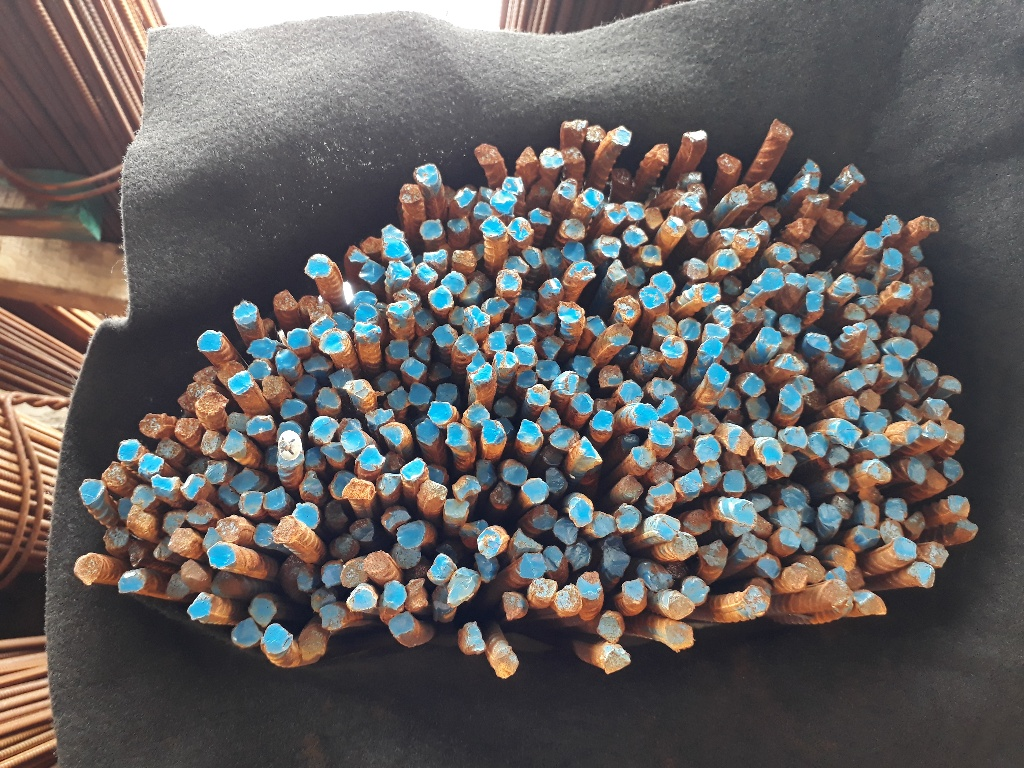dipstick: (448, 566, 481, 605), (167, 526, 203, 559), (570, 436, 603, 469), (553, 584, 585, 616), (261, 625, 294, 656), (73, 552, 103, 585), (194, 390, 229, 416), (229, 619, 262, 646), (126, 504, 155, 534), (727, 425, 755, 456), (272, 515, 300, 546), (527, 503, 559, 530), (355, 444, 387, 471), (427, 556, 457, 584), (180, 560, 208, 590), (474, 551, 500, 583), (600, 648, 633, 673), (564, 540, 592, 569), (500, 591, 528, 620), (309, 417, 339, 444), (488, 481, 514, 512), (347, 585, 378, 611), (321, 443, 352, 469), (212, 570, 239, 599), (98, 459, 127, 486), (461, 622, 484, 656), (586, 510, 616, 536), (505, 215, 535, 241), (493, 648, 519, 678), (392, 543, 422, 569), (512, 529, 543, 554), (396, 522, 427, 547), (833, 420, 860, 448), (700, 539, 728, 566), (522, 476, 550, 503), (461, 520, 488, 548), (340, 479, 376, 500), (249, 599, 277, 626), (293, 503, 320, 531), (694, 436, 723, 462), (415, 418, 441, 447), (341, 560, 370, 586), (746, 586, 770, 617), (576, 571, 603, 598), (475, 141, 502, 168), (529, 579, 556, 606), (329, 470, 356, 497), (137, 413, 164, 440), (678, 470, 704, 498), (666, 624, 694, 650), (299, 631, 327, 657), (185, 499, 213, 525), (857, 589, 886, 614), (644, 566, 673, 591), (604, 551, 629, 580), (296, 561, 318, 593), (740, 531, 767, 557), (685, 509, 712, 535), (682, 578, 709, 604), (615, 505, 642, 531), (319, 603, 345, 630), (615, 295, 640, 323), (518, 551, 546, 576), (299, 475, 324, 503), (208, 545, 236, 570), (554, 516, 578, 545), (452, 476, 481, 500), (231, 470, 260, 494), (490, 191, 521, 213), (397, 458, 428, 480), (598, 363, 624, 389), (320, 330, 346, 356), (238, 491, 264, 517), (103, 524, 129, 550), (855, 500, 880, 527), (656, 515, 681, 542), (478, 527, 503, 554), (383, 505, 410, 530), (406, 581, 427, 613), (217, 516, 241, 544), (880, 211, 905, 237), (673, 533, 698, 559), (597, 615, 622, 641), (443, 498, 469, 523), (349, 518, 375, 543), (325, 501, 350, 527), (166, 572, 192, 597), (853, 524, 880, 548), (539, 335, 566, 359), (551, 424, 578, 448), (188, 592, 212, 619), (569, 498, 592, 526), (545, 465, 568, 493), (382, 580, 405, 608), (420, 481, 448, 504), (357, 261, 385, 284), (277, 442, 305, 465), (247, 337, 275, 360), (217, 361, 245, 384), (114, 572, 146, 592), (152, 535, 173, 565), (652, 312, 677, 337), (651, 481, 676, 506), (427, 400, 452, 425), (221, 430, 246, 455), (830, 272, 854, 298), (482, 296, 506, 322), (444, 422, 470, 446), (784, 563, 807, 590), (388, 613, 415, 636), (364, 553, 391, 576), (77, 478, 104, 501), (150, 471, 181, 491), (887, 312, 915, 334), (496, 271, 524, 293), (924, 542, 949, 566), (802, 556, 826, 581), (778, 384, 802, 409), (759, 268, 784, 292), (758, 555, 782, 580), (655, 395, 680, 419), (572, 354, 597, 378), (316, 389, 341, 413), (819, 502, 842, 528), (807, 433, 830, 459), (784, 426, 810, 449), (640, 286, 666, 309), (648, 460, 674, 483), (427, 287, 453, 310), (196, 330, 222, 353), (181, 475, 207, 498), (669, 598, 696, 620), (291, 375, 318, 397), (227, 372, 254, 394), (246, 415, 273, 437), (432, 586, 453, 614), (770, 119, 794, 143), (885, 497, 909, 521), (833, 544, 857, 568), (742, 372, 766, 396), (745, 463, 769, 487), (734, 500, 758, 524), (649, 424, 673, 448), (538, 406, 562, 430), (452, 248, 476, 272), (419, 218, 443, 242), (260, 374, 284, 398), (909, 265, 934, 288), (910, 322, 933, 347), (947, 492, 970, 517), (880, 519, 903, 544), (722, 471, 747, 494), (716, 152, 741, 175), (620, 475, 643, 500), (913, 561, 935, 587), (857, 337, 879, 363), (783, 486, 809, 508), (746, 397, 772, 419), (716, 248, 742, 270), (479, 216, 505, 238), (414, 263, 440, 285), (163, 511, 189, 533), (399, 359, 426, 380), (340, 431, 367, 452), (843, 163, 867, 186), (868, 460, 892, 483), (867, 433, 891, 456), (828, 469, 852, 492), (750, 514, 773, 538), (661, 335, 685, 358), (640, 243, 663, 267), (482, 421, 506, 444), (455, 332, 479, 355), (199, 431, 222, 455), (131, 484, 155, 507), (622, 580, 647, 602), (559, 301, 584, 323), (518, 419, 540, 444), (407, 383, 432, 405), (431, 325, 456, 347), (386, 339, 411, 361), (311, 588, 336, 610), (273, 290, 298, 312), (892, 337, 918, 358), (638, 347, 664, 368), (607, 323, 633, 344), (534, 359, 560, 380), (452, 187, 478, 208), (281, 397, 307, 418), (650, 378, 677, 398), (376, 474, 403, 494), (115, 440, 142, 460), (916, 357, 939, 380), (719, 387, 742, 410), (619, 381, 642, 404), (264, 487, 287, 510), (206, 460, 229, 483), (859, 388, 881, 412), (832, 493, 854, 517), (825, 580, 847, 604), (730, 184, 754, 206), (678, 317, 700, 341), (580, 187, 604, 209), (517, 148, 539, 172), (538, 276, 562, 298), (465, 306, 489, 328), (466, 401, 490, 423), (414, 308, 438, 330), (217, 484, 241, 506), (174, 417, 198, 439), (893, 537, 918, 558), (827, 445, 852, 466), (543, 245, 564, 270), (505, 254, 530, 275), (555, 372, 580, 393), (543, 545, 564, 570), (379, 425, 404, 446), (375, 371, 400, 392), (329, 368, 354, 389), (254, 522, 275, 547), (155, 438, 180, 459), (702, 460, 720, 489), (924, 398, 950, 418), (693, 412, 719, 432), (622, 227, 648, 247), (564, 119, 590, 139), (523, 244, 543, 270), (426, 361, 452, 381), (567, 262, 594, 281), (943, 418, 965, 441), (842, 298, 864, 321), (843, 320, 866, 342), (781, 507, 803, 530), (776, 453, 798, 476), (513, 344, 536, 366), (388, 387, 410, 410), (416, 164, 438, 187), (387, 260, 410, 282), (410, 337, 432, 360), (289, 328, 312, 350), (226, 412, 249, 434), (942, 457, 966, 478), (864, 412, 888, 433), (676, 448, 700, 469), (633, 445, 657, 466), (515, 322, 536, 346), (442, 271, 466, 292), (321, 563, 342, 587), (233, 301, 257, 322), (791, 217, 816, 237), (808, 333, 834, 352), (752, 419, 778, 438), (334, 539, 360, 558), (203, 527, 222, 553), (843, 394, 861, 421), (721, 342, 743, 364), (542, 444, 564, 466), (882, 356, 905, 377), (798, 529, 819, 552), (758, 327, 781, 348), (761, 439, 782, 462), (562, 242, 585, 263), (447, 305, 468, 328), (474, 459, 495, 482), (954, 518, 978, 538), (905, 510, 925, 534), (854, 275, 878, 295), (651, 271, 675, 291), (560, 147, 584, 167), (527, 386, 551, 406), (383, 239, 407, 259), (346, 378, 370, 398), (367, 408, 395, 425), (570, 393, 595, 412), (137, 454, 162, 473), (777, 354, 803, 372), (393, 288, 419, 306), (889, 278, 910, 300), (794, 374, 815, 396), (806, 387, 828, 408), (605, 203, 627, 224), (557, 178, 578, 200), (592, 410, 613, 432), (400, 184, 422, 205), (821, 206, 844, 226), (861, 229, 884, 249), (858, 293, 881, 313), (778, 528, 801, 548), (707, 363, 730, 383), (495, 396, 518, 416), (515, 368, 538, 388), (493, 349, 516, 369), (503, 466, 530, 483), (422, 249, 449, 266), (353, 323, 380, 340), (938, 374, 962, 393), (304, 355, 328, 374), (907, 458, 925, 483), (652, 144, 670, 169), (352, 290, 377, 308), (193, 365, 218, 383), (898, 380, 919, 401), (687, 258, 708, 279), (645, 207, 666, 228), (624, 200, 645, 221), (917, 214, 939, 234), (927, 468, 947, 490), (899, 402, 921, 422), (756, 180, 778, 200), (716, 227, 738, 247), (664, 216, 686, 236), (625, 266, 647, 286), (807, 190, 830, 209), (541, 149, 564, 168), (515, 298, 538, 317), (496, 322, 515, 345), (310, 303, 333, 322), (858, 484, 882, 502), (599, 534, 623, 552), (468, 365, 495, 381), (277, 422, 301, 440), (806, 272, 827, 292), (760, 206, 781, 226), (700, 281, 720, 302), (600, 235, 621, 255), (586, 315, 606, 336), (426, 464, 447, 484), (799, 161, 821, 180), (751, 492, 773, 511), (607, 259, 626, 281), (636, 405, 658, 424), (614, 126, 633, 148), (435, 383, 457, 402), (355, 305, 377, 324), (248, 360, 270, 379), (847, 368, 865, 391), (701, 338, 724, 356), (458, 283, 481, 301), (360, 236, 383, 254), (128, 544, 146, 567), (922, 421, 946, 438), (863, 362, 880, 386), (532, 308, 556, 325), (882, 248, 902, 268), (800, 244, 821, 263), (724, 275, 743, 296), (447, 214, 469, 232), (779, 316, 803, 332), (338, 418, 362, 434), (846, 569, 866, 588), (565, 218, 584, 238), (504, 175, 523, 195), (296, 297, 316, 316), (334, 311, 353, 331), (804, 290, 822, 311), (776, 244, 797, 262), (689, 220, 710, 238), (825, 566, 847, 583), (784, 270, 806, 287), (530, 207, 552, 224), (115, 498, 131, 521), (713, 305, 732, 324), (586, 125, 605, 144), (684, 129, 708, 144), (622, 434, 642, 452), (265, 447, 280, 471), (751, 219, 772, 236), (742, 306, 763, 323), (672, 415, 693, 432), (846, 211, 868, 227), (924, 306, 940, 328), (825, 354, 847, 370), (387, 303, 416, 315), (864, 318, 879, 341), (381, 225, 404, 240), (901, 422, 919, 441), (466, 355, 486, 372), (347, 248, 367, 265), (706, 323, 730, 337), (917, 454, 939, 469), (797, 504, 815, 522), (684, 196, 703, 213), (613, 169, 632, 186), (186, 456, 205, 473), (761, 306, 776, 327), (803, 173, 821, 190), (473, 200, 492, 216), (680, 172, 701, 186), (916, 287, 932, 305), (725, 409, 744, 424), (471, 242, 486, 261), (837, 597, 852, 615), (498, 417, 513, 435), (688, 182, 707, 196), (909, 245, 924, 260), (479, 185, 493, 199)
